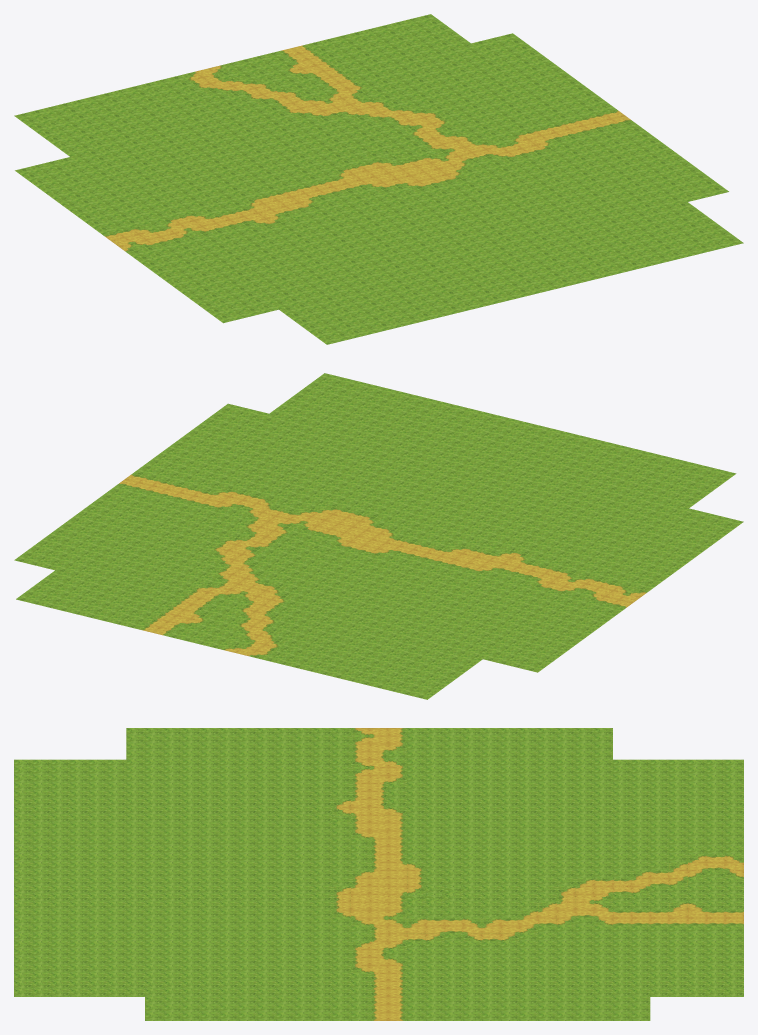
The model's file is ground_0000.fbx.
3 renders of one model, top to bottom at view 1: azimuth 30°, elevation 25°; view 2: azimuth 150°, elevation 25°; view 3: azimuth 270°, elevation 25°, orthographic. The views are drawn at different scales.
Visible parts, largest first — view 1: ground_0000; view 2: ground_0000; view 3: ground_0000.
Boxes of the visible parts, bbox=[...] form: ground_0000: bbox=[14, 14, 743, 344]; ground_0000: bbox=[14, 373, 743, 699]; ground_0000: bbox=[14, 728, 743, 1020].
Bounding box in the file's own units: 7400 × 1.34e-05 × 7800.
